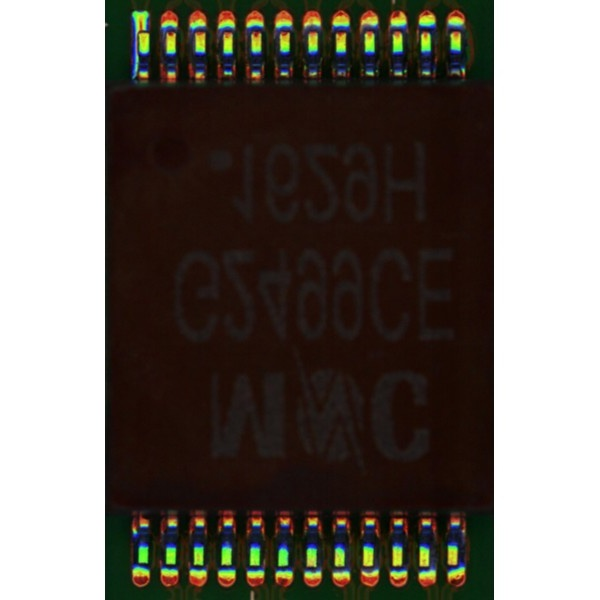Bad_podu: (138, 18, 145, 39)
Bad_qiaojiao: (130, 32, 139, 79)
